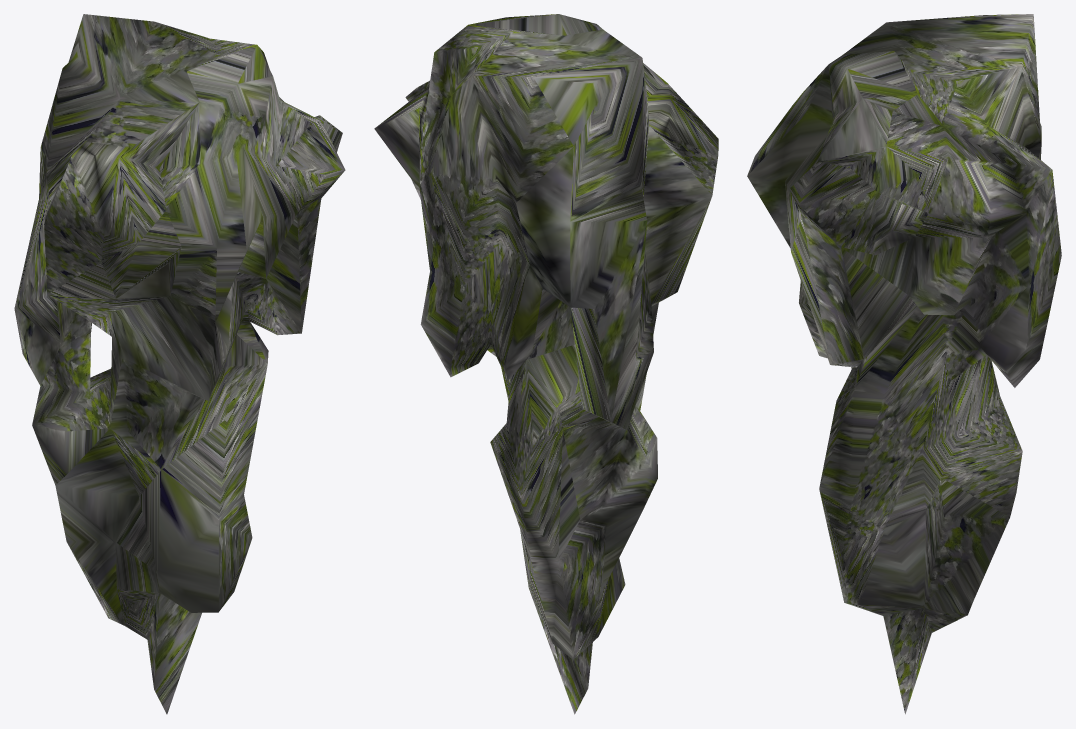
The model's file is Mossy_Monolith.glb.
The picture shows the model from 3 angles, left to right: view 1: azimuth 30°, elevation 25°; view 2: azimuth 150°, elevation 25°; view 3: azimuth 270°, elevation 25°; orthographic projection. The views are drawn at different scales.
Visible parts, largest first — view 1: Mossy_Monolith; view 2: Mossy_Monolith; view 3: Mossy_Monolith.
Part boxes in pixels (box(x1,y1,x2,y2)): Mossy_Monolith: box(14, 14, 345, 714); Mossy_Monolith: box(374, 14, 718, 714); Mossy_Monolith: box(747, 14, 1061, 714).
Bounding box in the file's own units: 0.8924 × 1.9 × 0.7868.
1 material, 1 textured.
